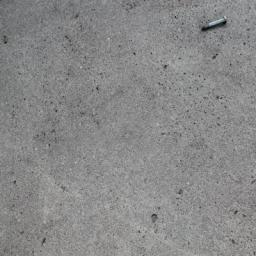FOD: (196, 15, 232, 34)
